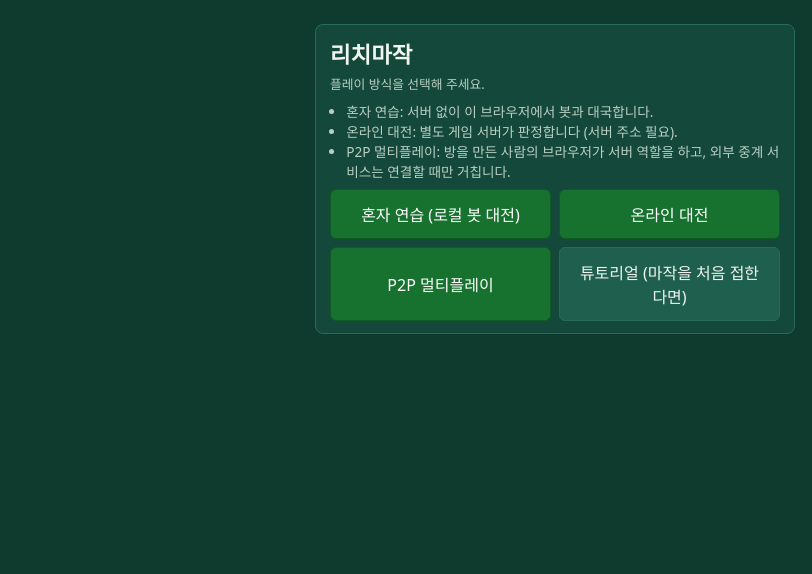
Test: 모드 선택 › 온라인을 고르면 입장 폼이 보이고 로컬 요소는 없다
This screenshot has width=812, height=574.
Click the button "온라인 대전" at (670, 214), box [559, 189, 780, 239]
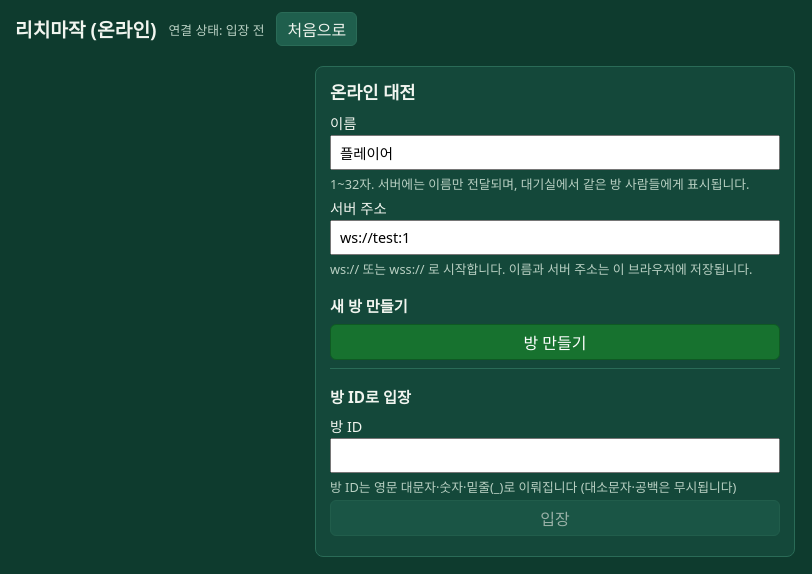
Expected: the button "방 만들기" is shown, [330, 324, 780, 360]
Click the button "처음으로" at (317, 29), box [276, 12, 357, 46]
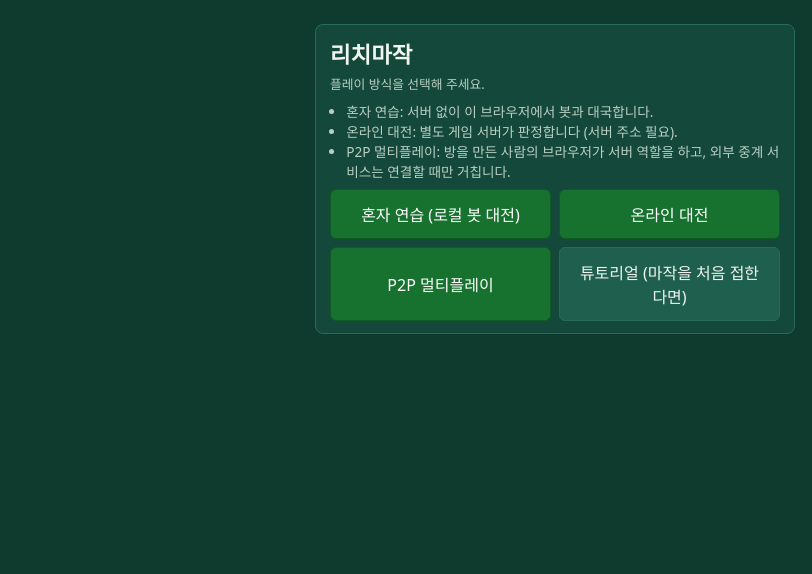
Expected: the button "혼자 연습 (로컬 봇 대전)" is shown, [330, 189, 551, 239]
